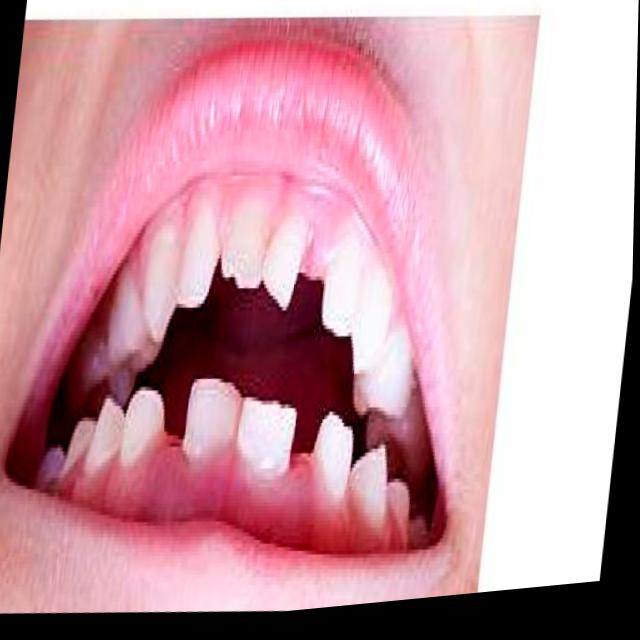hypodontia: (144, 380, 266, 478), (274, 218, 352, 313), (287, 408, 342, 497)
